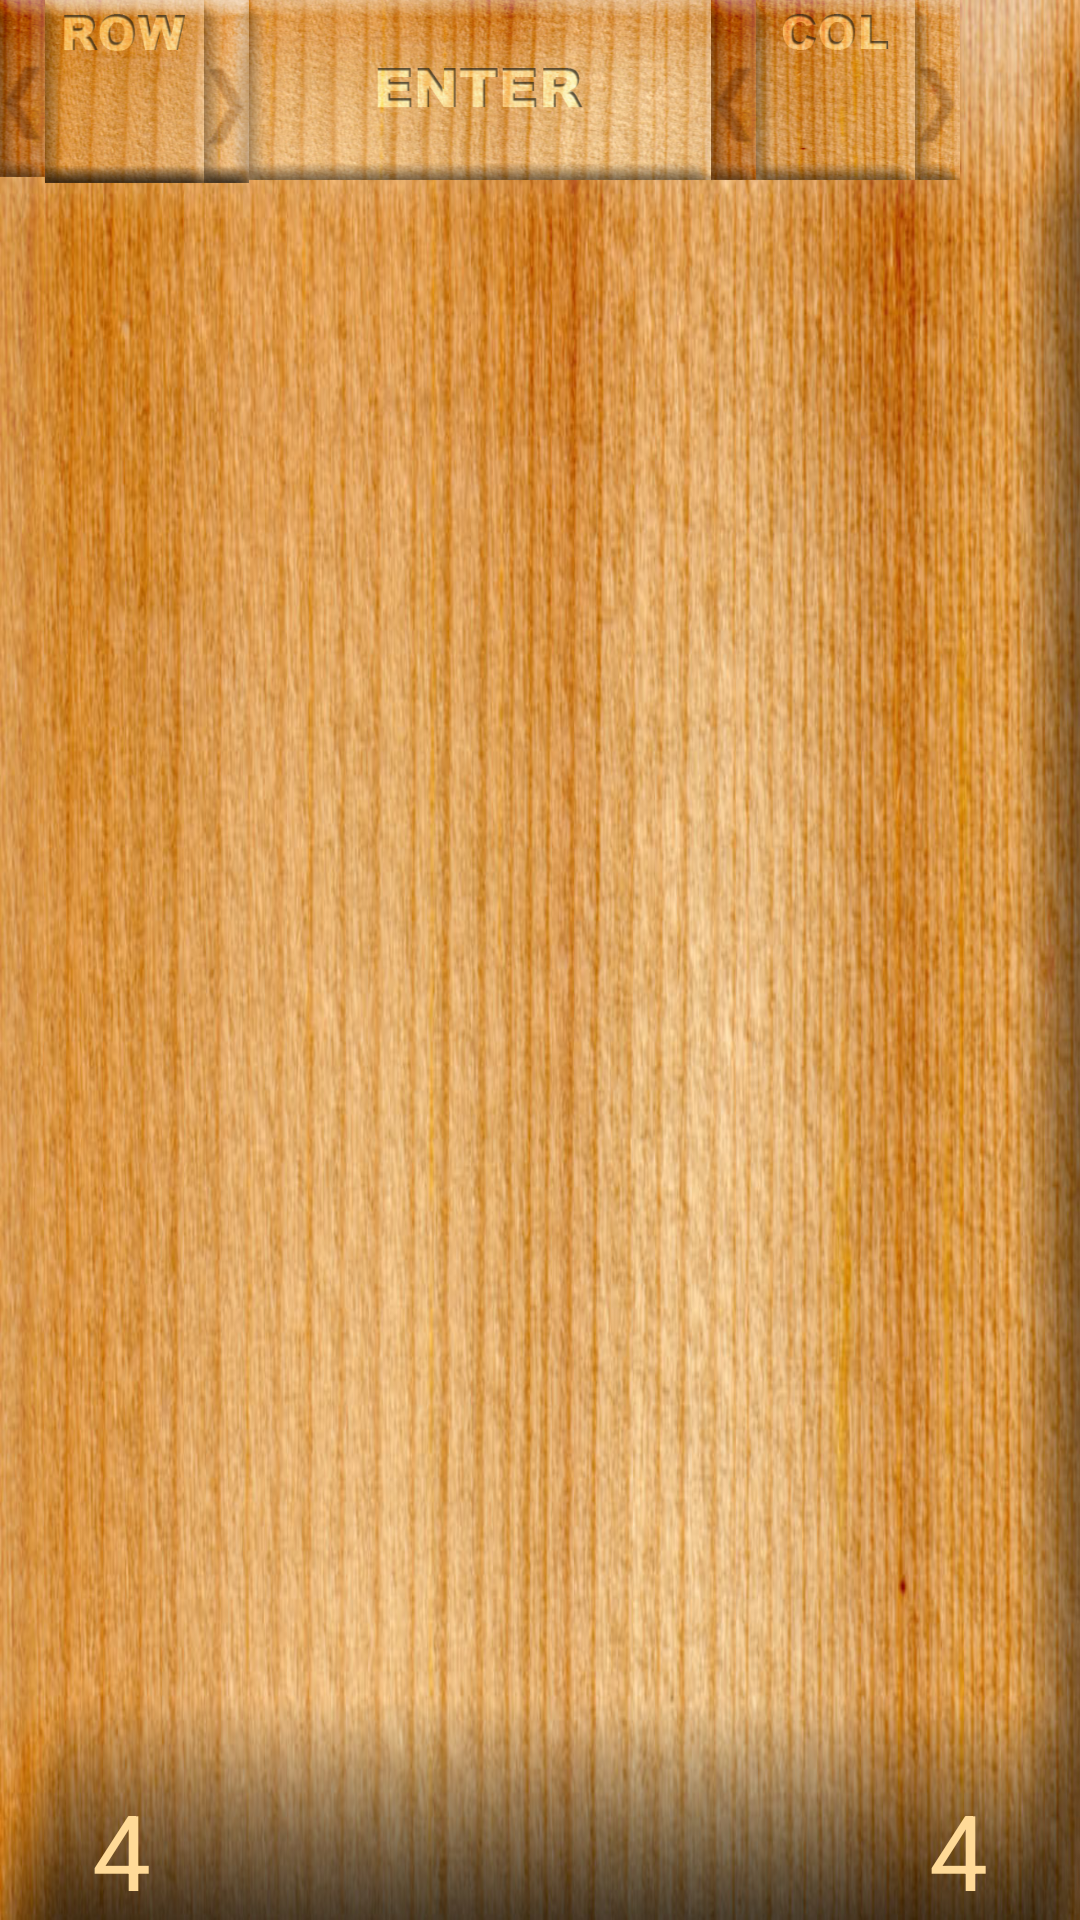

Icon click points for this 1080x1920 phone screenshot, format (x,y):
game bar column left: (22,88), (733,90)
game bar column right: (937,90)
game bar row right: (226,91)
